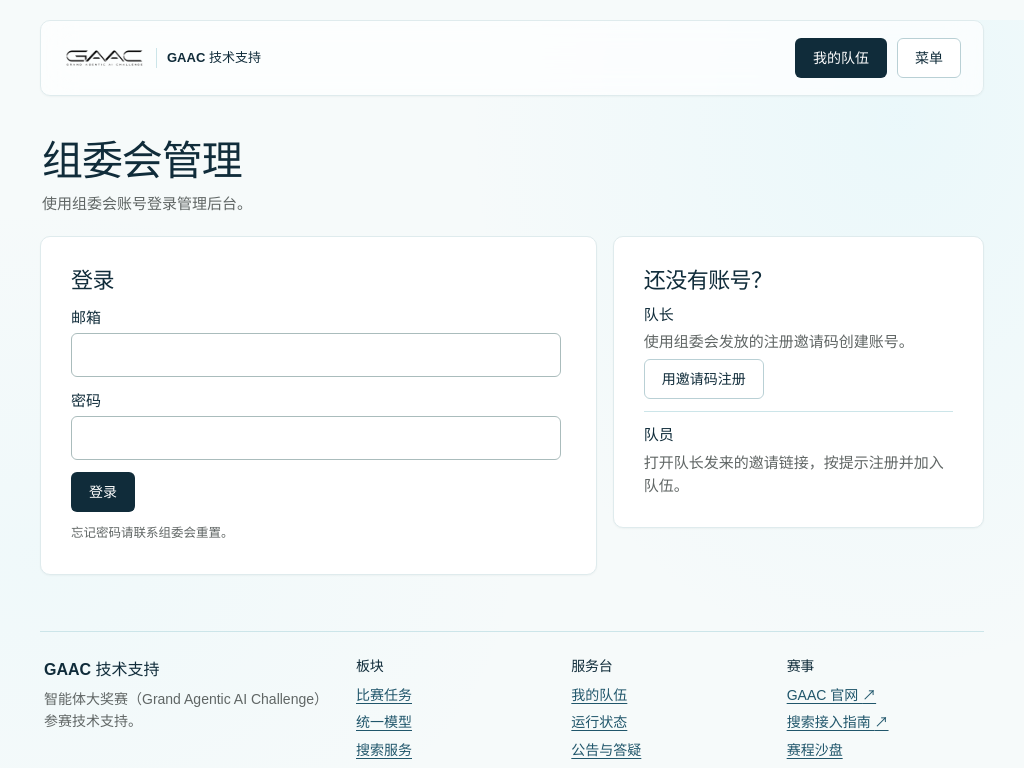
Scenario: preserves /admin/ after inline login
This screenshot has width=1024, height=768.
Expected: the element "登录" is shown, [40,236,597,574]
Type "organizer@example.test" into the field labelled "邮箱". click: coordinates (316, 355)
box: [71,333,561,377]
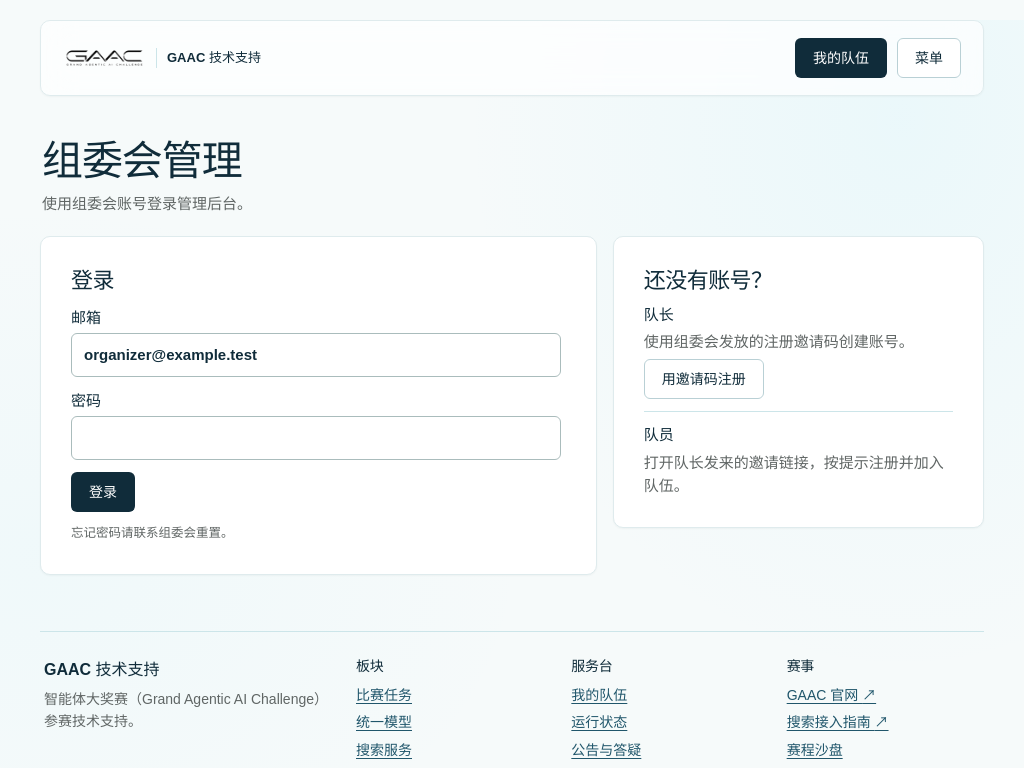
Type "demo-password-2026" into the password field labelled "密码". click: coordinates (316, 438)
box: [71,416,561,460]
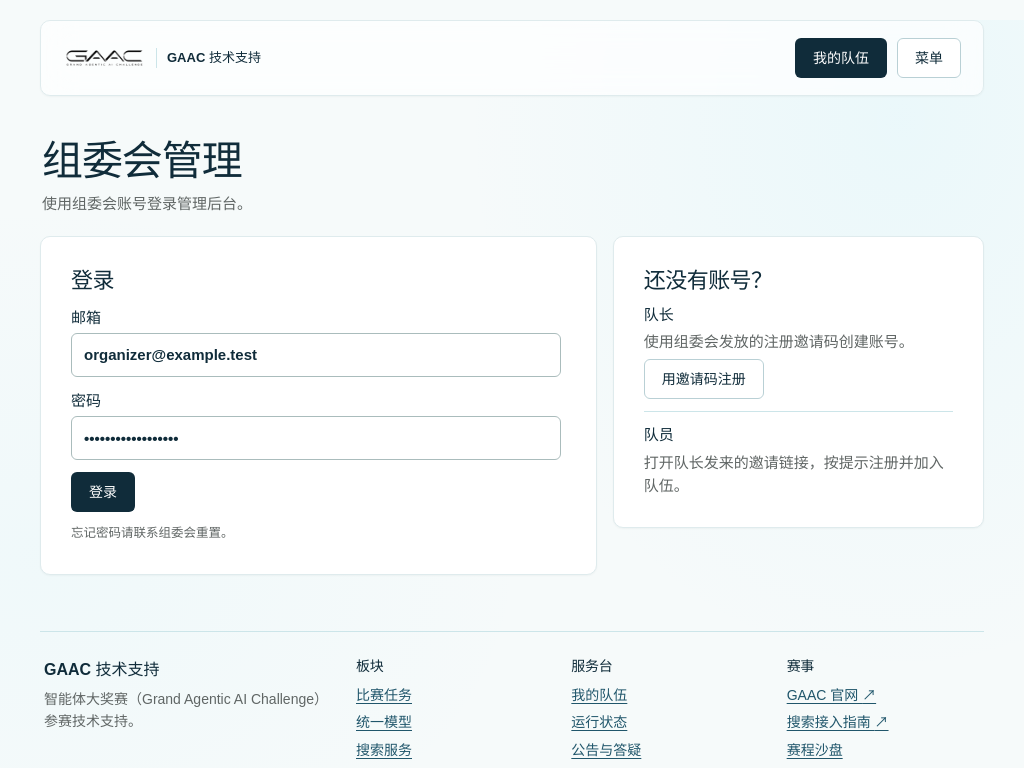
Click the button "登录". click: coordinates (103, 492)
box: [71,472,135,512]
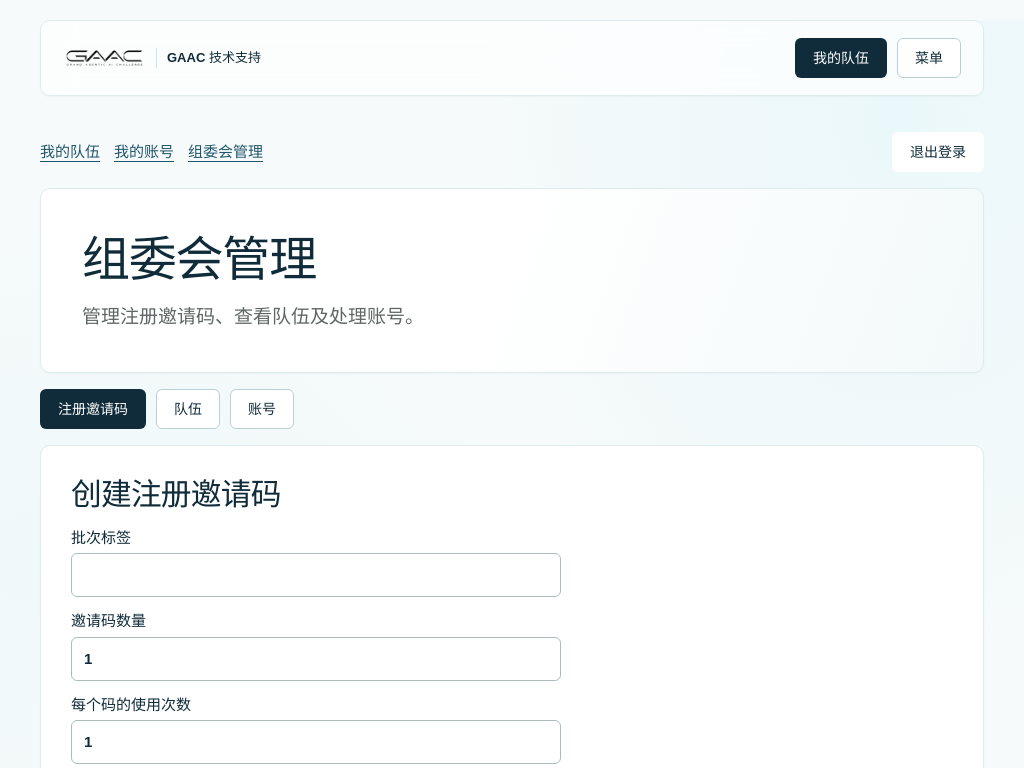
Now the heading "创建注册邀请码" is shown, box [71,477,281,512]
